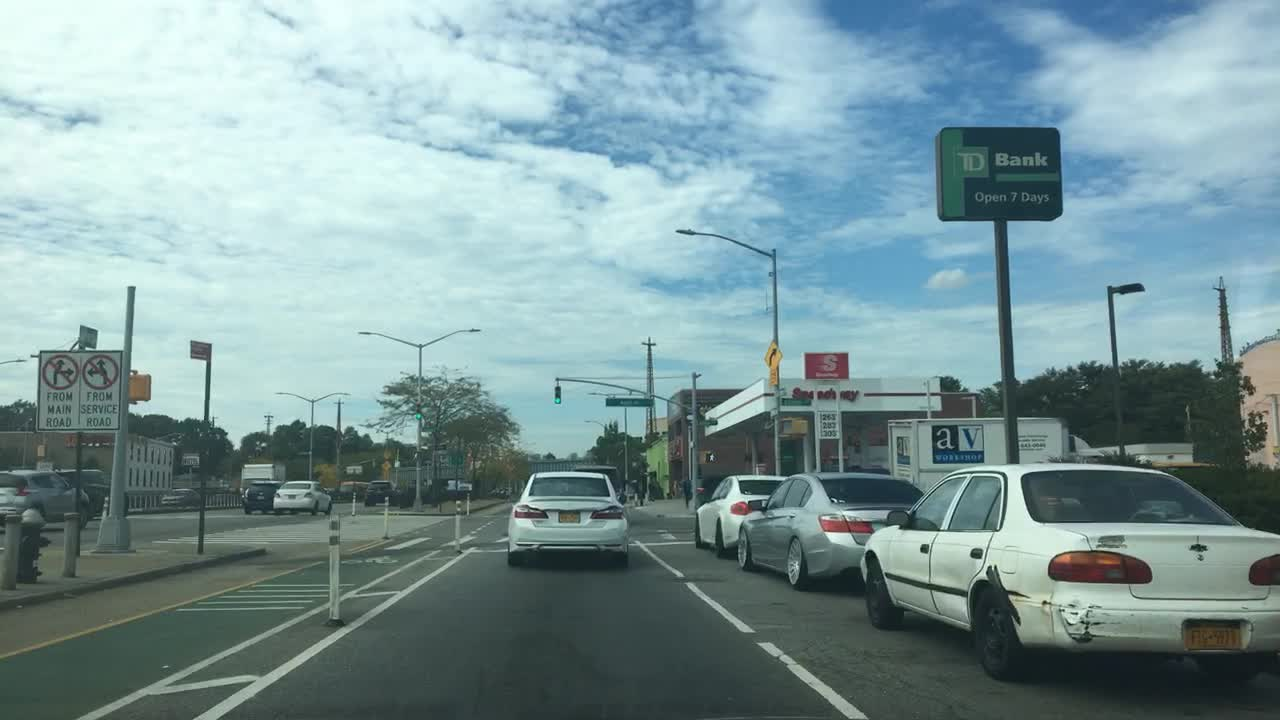car: (858, 461, 1278, 690), (735, 470, 925, 589), (505, 470, 630, 568), (693, 475, 787, 560), (0, 467, 91, 527), (55, 466, 131, 518), (271, 479, 333, 517), (573, 463, 627, 505), (241, 480, 283, 515), (362, 479, 402, 505), (160, 488, 204, 504), (400, 485, 432, 504), (337, 482, 369, 500), (459, 482, 474, 495), (498, 485, 513, 498), (446, 479, 458, 491)
person: (683, 475, 694, 507), (648, 476, 660, 500), (636, 486, 646, 505)
traffic light: (125, 373, 152, 401), (782, 418, 809, 438), (697, 449, 717, 463), (553, 385, 562, 403), (414, 399, 423, 417)
traffic sign: (36, 349, 123, 436), (603, 396, 656, 408), (78, 323, 99, 350), (763, 337, 780, 367), (189, 339, 213, 360), (697, 417, 721, 428), (181, 455, 202, 466), (347, 464, 365, 474), (382, 462, 391, 475), (769, 369, 777, 383), (295, 450, 313, 455), (383, 450, 391, 460)
truck: (887, 415, 1103, 496), (238, 463, 284, 503)
